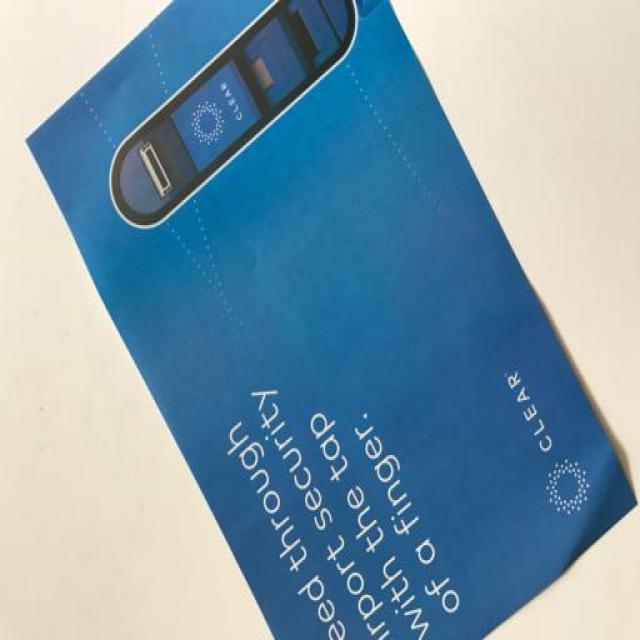paper: (53, 46, 595, 640)
